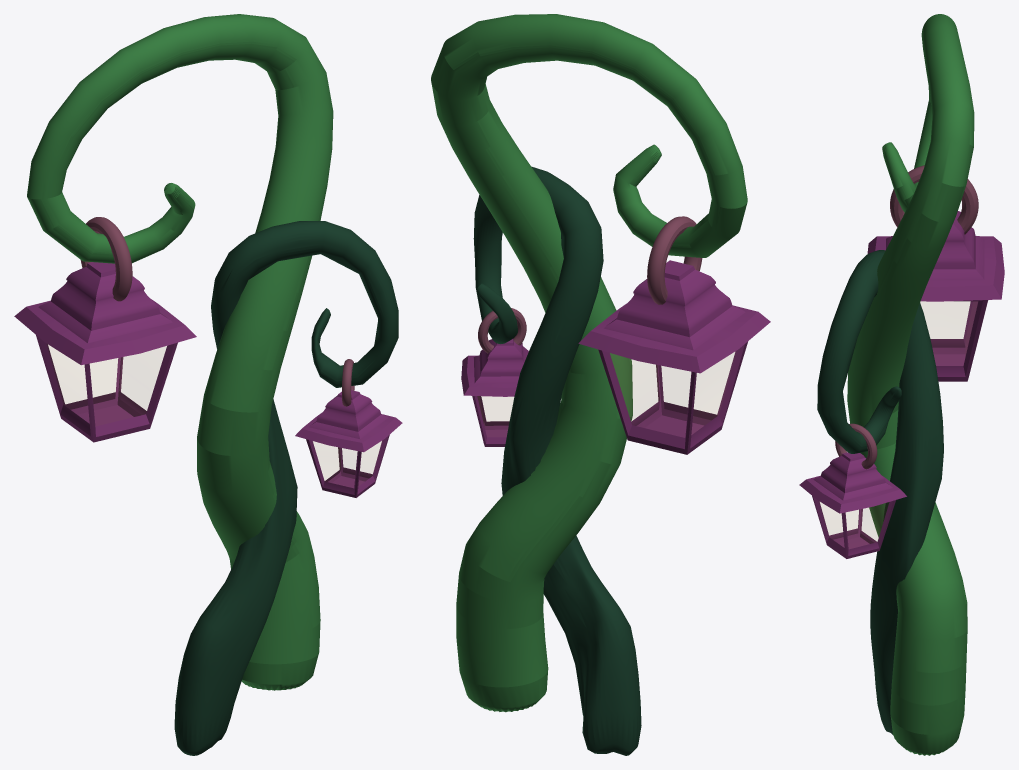
Rendered from LampPost.fbx.
3 views of the same model, side by side, from view 1: azimuth 30°, elevation 25°; view 2: azimuth 150°, elevation 25°; view 3: azimuth 270°, elevation 25° (orthographic). The views are drawn at different scales.
Parts seen in each view (by area): view 1: Cylinder.002, Cylinder.001, Cube, Cube.001, Torus.001; view 2: Cylinder.002, Cylinder.001, Cube, Cube.001, Torus.001; view 3: Cylinder.002, Cylinder.001, Cube, Cube.001, Torus.001.
Boxes of the visible parts, <box> form: Cylinder.002: <box>27,14,333,690</box>; Cylinder.001: <box>174,221,398,755</box>; Cube: <box>14,262,196,442</box>; Cube.001: <box>295,390,402,497</box>; Torus.001: <box>80,217,354,406</box>; Cylinder.002: <box>431,14,747,712</box>; Cylinder.001: <box>473,166,641,755</box>; Cube: <box>578,260,770,454</box>; Cube.001: <box>461,339,528,446</box>; Torus.001: <box>478,216,702,353</box>; Cylinder.002: <box>847,14,974,755</box>; Cylinder.001: <box>817,250,943,734</box>; Cube: <box>867,211,1004,381</box>; Cube.001: <box>799,452,906,558</box>; Torus.001: <box>835,165,978,469</box>.
Size of the model in its own units: 223 by 468 by 124.
